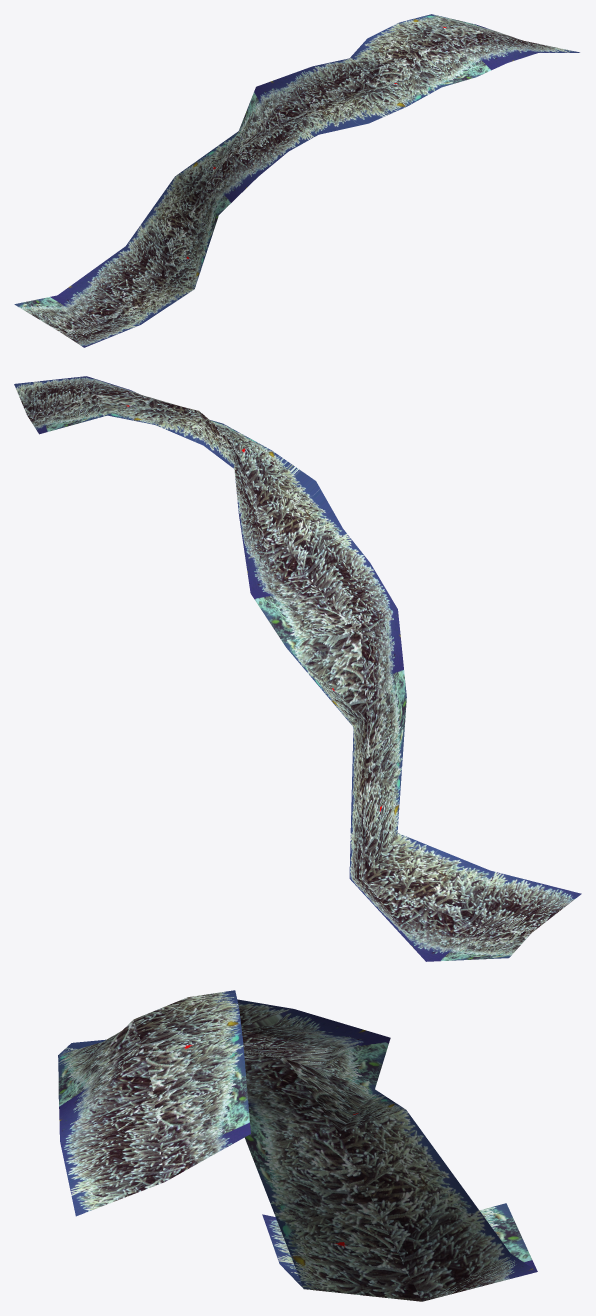
Rendered from Coral_D.fbx.
3 renders of one model, top to bottom at view 1: azimuth 30°, elevation 25°; view 2: azimuth 150°, elevation 25°; view 3: azimuth 270°, elevation 25°, orthographic. The views are drawn at different scales.
Parts seen in each view (by area): view 1: Coral_D; view 2: Coral_D; view 3: Coral_D.
Boxes of the visible parts, x1,y1,x2,y2 form: Coral_D: (14,14,579,347); Coral_D: (14,376,581,961); Coral_D: (58,990,537,1301).
Size of the model in its own units: 10.8 by 5.93 by 4.88.
Materials: 1 (1 with a texture image).
